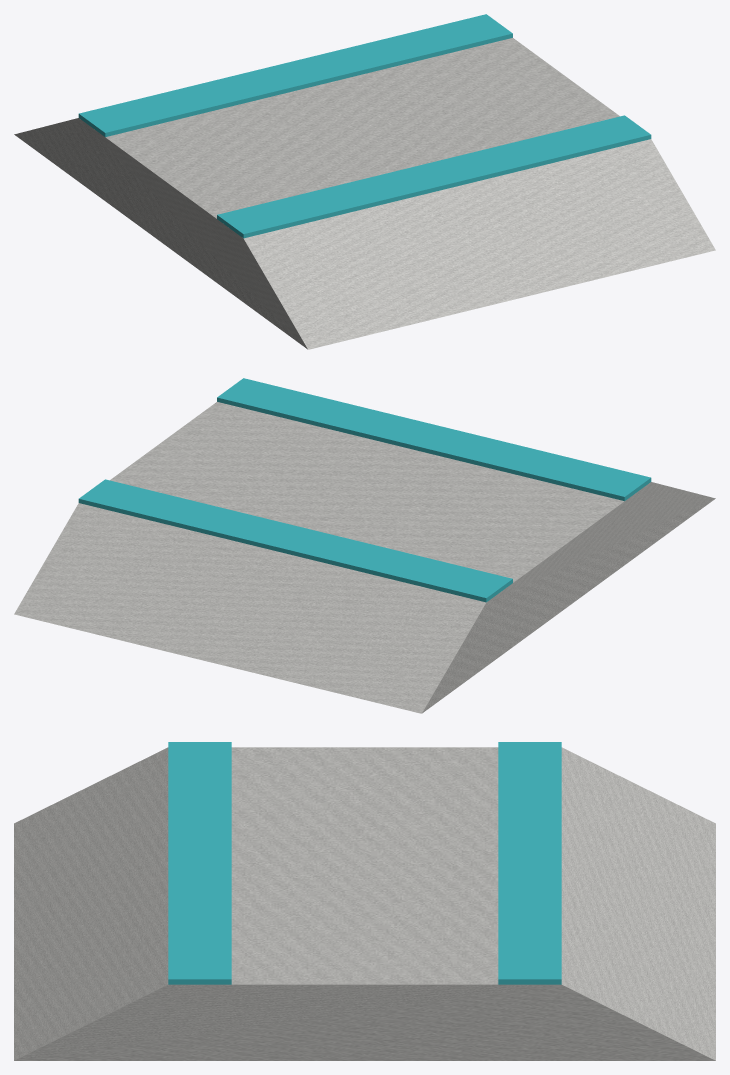
The model's file is skate-park-and-street-sports-funbox-faf075e8__33517.glb.
The picture shows the model from 3 angles, top to bottom: view 1: azimuth 30°, elevation 25°; view 2: azimuth 150°, elevation 25°; view 3: azimuth 270°, elevation 25°; orthographic projection. The views are drawn at different scales.
Parts seen in each view (by area): view 1: funbox-concrete, funbox-teal; view 2: funbox-concrete, funbox-teal; view 3: funbox-concrete, funbox-teal.
Part boxes in pixels (x1,y1,x2,y2): funbox-concrete: [14, 38, 715, 349]; funbox-teal: [78, 14, 651, 238]; funbox-concrete: [14, 402, 715, 713]; funbox-teal: [78, 378, 651, 602]; funbox-concrete: [14, 747, 715, 1060]; funbox-teal: [168, 742, 561, 984].
Bounding box in the file's own units: 4 × 0.64 × 5.
Materials: 2 (1 with a texture image).
